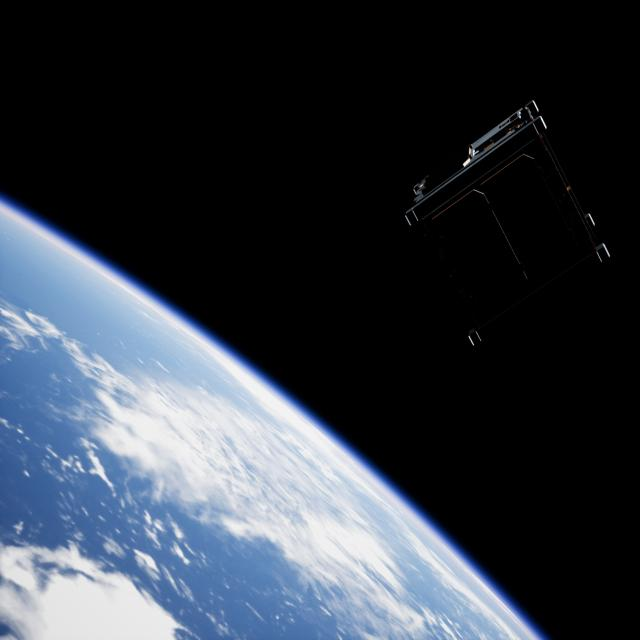medium_debris: (404, 97, 620, 359)
